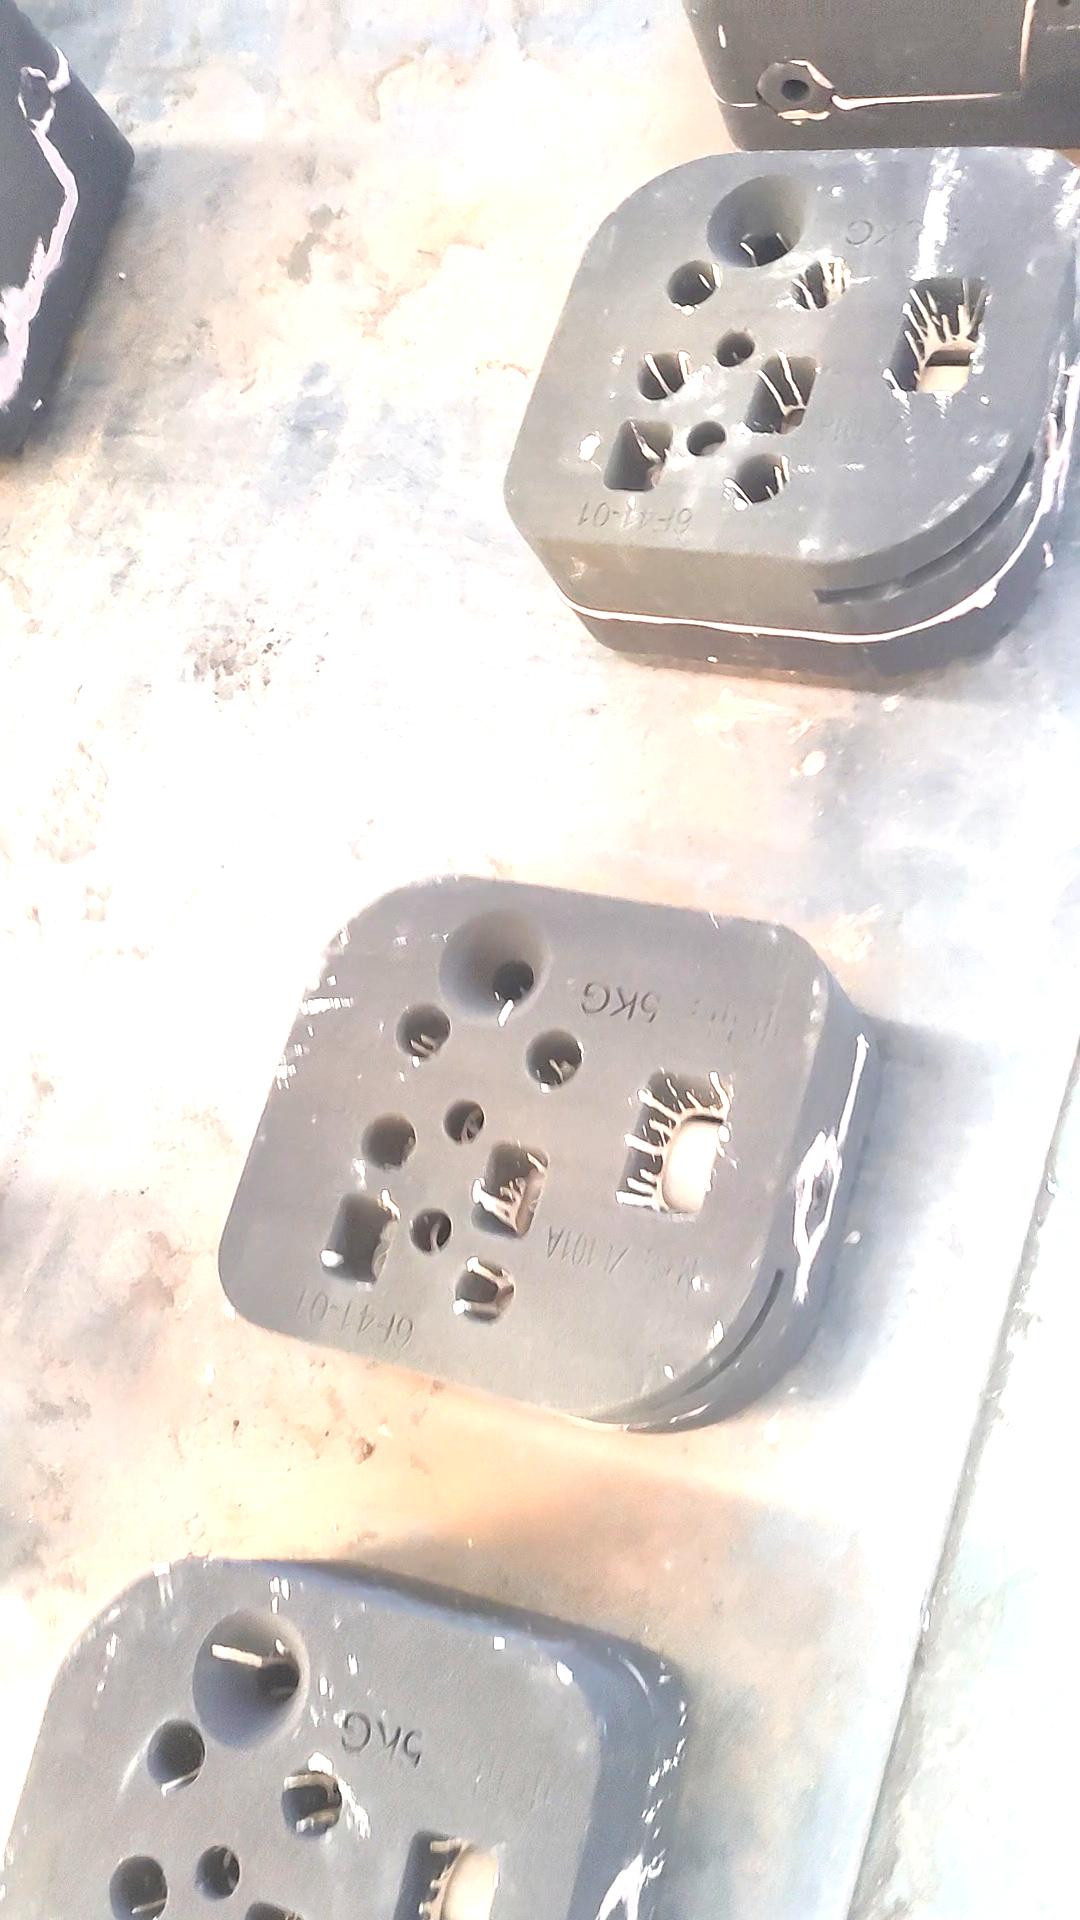pouring hole: (193, 1606, 313, 1753), (438, 913, 553, 1023), (705, 171, 810, 268)
